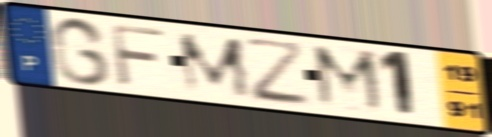1: (376, 49, 419, 123)
F: (108, 21, 168, 90)
G: (48, 15, 114, 88)
M: (309, 42, 389, 117), (175, 32, 255, 100)
Z: (241, 36, 314, 109)
